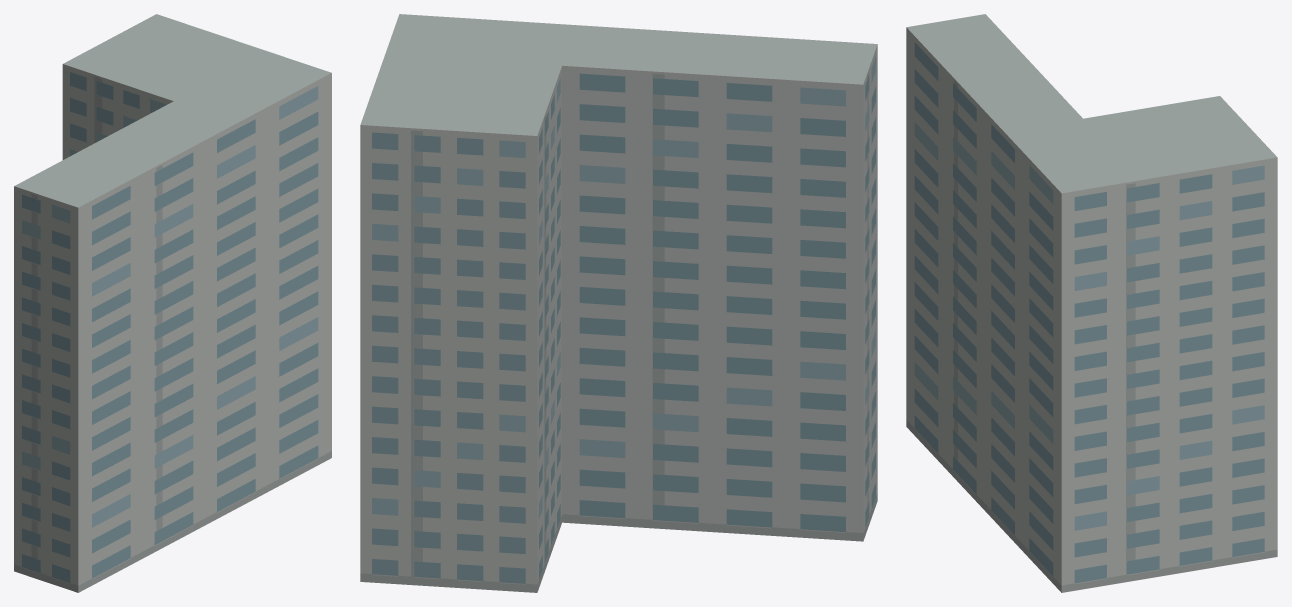
Rendered from residential-478da121-dfd4-4384-aec5-3f70b5bcb890.glb.
3 renders of one model, left to right at view 1: azimuth 30°, elevation 25°; view 2: azimuth 150°, elevation 25°; view 3: azimuth 270°, elevation 25°, orthographic. The views are drawn at different scales.
Parts seen in each view (by area): view 1: residential-478da121-dfd4-4384-aec5-3f70b5bcb890.tmp; view 2: residential-478da121-dfd4-4384-aec5-3f70b5bcb890.tmp; view 3: residential-478da121-dfd4-4384-aec5-3f70b5bcb890.tmp.
Part boxes in pixels (left/top/right/bottom): residential-478da121-dfd4-4384-aec5-3f70b5bcb890.tmp: left=14, top=14, right=331, bottom=592; residential-478da121-dfd4-4384-aec5-3f70b5bcb890.tmp: left=360, top=14, right=877, bottom=592; residential-478da121-dfd4-4384-aec5-3f70b5bcb890.tmp: left=906, top=14, right=1277, bottom=592.
Size of the model in its own units: 48.16 by 50 by 42.11.
